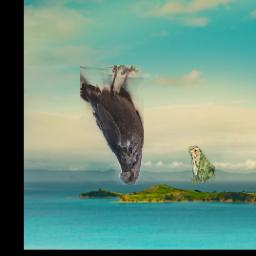Crow: (81, 65, 145, 185)
Sparrow: (188, 147, 215, 186)
